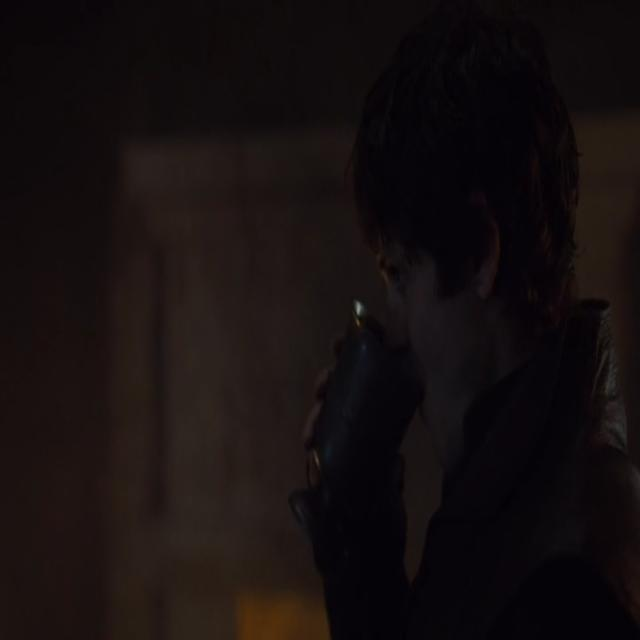Cup: (299, 312, 414, 514)
People: (362, 6, 640, 640)
